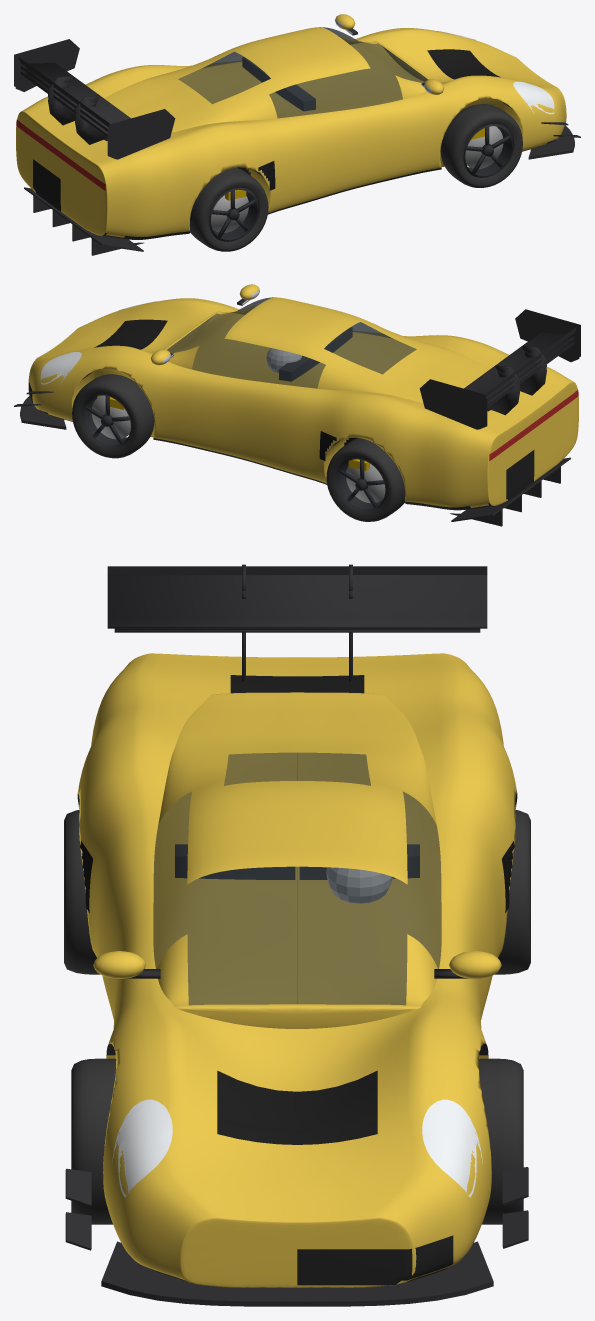
The model's file is flat6_rear_gt.glb.
The picture shows the model from 3 angles, top to bottom: view 1: azimuth 30°, elevation 25°; view 2: azimuth 150°, elevation 25°; view 3: azimuth 270°, elevation 25°; orthographic projection. The views are drawn at different scales.
Visible parts, largest first — view 1: body, cabin, bumper_rear, wing_rear_up3, wheel_fr_spin, wheel_rr_spin, bumper_front, wing_rear_up2, wing_rear, diffuser, interior, splitter_up; view 2: body, cabin, bumper_rear, wing_rear_up3, wheel_fl_spin, wheel_rl_spin, bumper_front, wing_rear_up2, wing_rear, diffuser, interior, splitter_up; view 3: body, cabin, bumper_front, wing_rear_up3, bumper_rear, splitter_up, wheel_fr_spin, wheel_fl_spin, splitter, interior, canards, wheel_rl_spin (+5 smaller).
Part boxes in pixels (x1=…): body: x1=85, y1=28, x2=528, y2=239; cabin: x1=104, y1=27, x2=430, y2=132; bumper_rear: x1=16, y1=96, x2=150, y2=239; wing_rear_up3: x1=14, y1=39, x2=175, y2=159; wheel_fr_spin: x1=440, y1=104, x2=522, y2=187; wheel_rr_spin: x1=189, y1=167, x2=268, y2=251; bumper_front: x1=443, y1=32, x2=566, y2=150; wing_rear_up2: x1=15, y1=48, x2=109, y2=155; wing_rear: x1=15, y1=56, x2=116, y2=159; diffuser: x1=24, y1=187, x2=143, y2=255; interior: x1=242, y1=57, x2=315, y2=111; splitter_up: x1=528, y1=125, x2=574, y2=159; body: x1=66, y1=298, x2=509, y2=509; cabin: x1=164, y1=297, x2=489, y2=402; bumper_rear: x1=444, y1=367, x2=578, y2=510; wing_rear_up3: x1=419, y1=309, x2=580, y2=429; wheel_fl_spin: x1=72, y1=374, x2=154, y2=458; wheel_rl_spin: x1=326, y1=438, x2=405, y2=521; bumper_front: x1=28, y1=302, x2=151, y2=420; wing_rear_up2: x1=485, y1=318, x2=579, y2=425; wing_rear: x1=479, y1=326, x2=579, y2=429; diffuser: x1=450, y1=457, x2=570, y2=526; interior: x1=266, y1=327, x2=352, y2=381; splitter_up: x1=20, y1=395, x2=66, y2=429; body: x1=77, y1=677, x2=517, y2=1206; cabin: x1=153, y1=692, x2=441, y2=1028; bumper_front: x1=105, y1=1103, x2=489, y2=1287; wing_rear_up3: x1=107, y1=564, x2=487, y2=681; bumper_rear: x1=95, y1=653, x2=499, y2=720; splitter_up: x1=101, y1=1241, x2=493, y2=1306; wheel_fr_spin: x1=71, y1=1058, x2=116, y2=1224; wheel_fl_spin: x1=478, y1=1058, x2=523, y2=1224; splitter: x1=110, y1=1246, x2=486, y2=1296; interior: x1=175, y1=844, x2=419, y2=903; canards: x1=65, y1=1167, x2=528, y2=1250; wheel_rl_spin: x1=495, y1=810, x2=530, y2=974.
Size of the model in its own units: 4.64 by 1.39 by 1.94.
